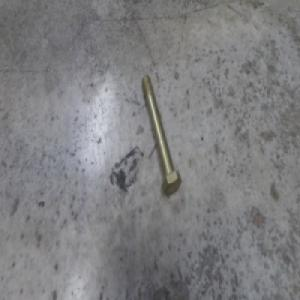Bolt: (141, 73, 181, 196)
